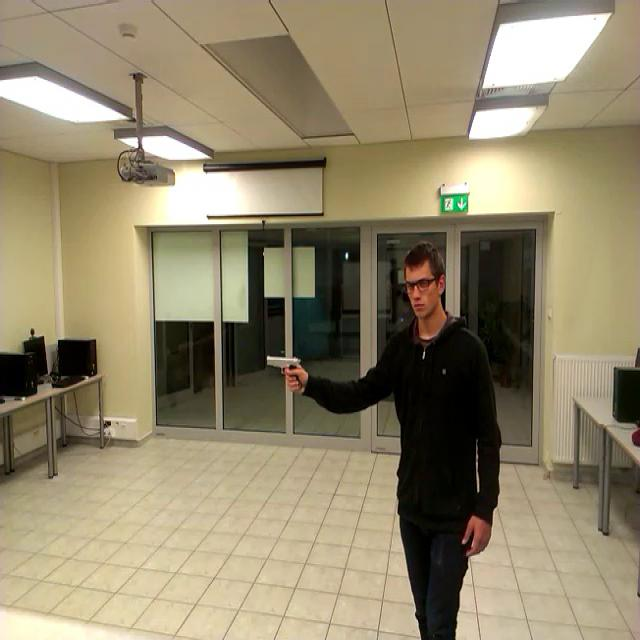handgun: (260, 342, 309, 411)
